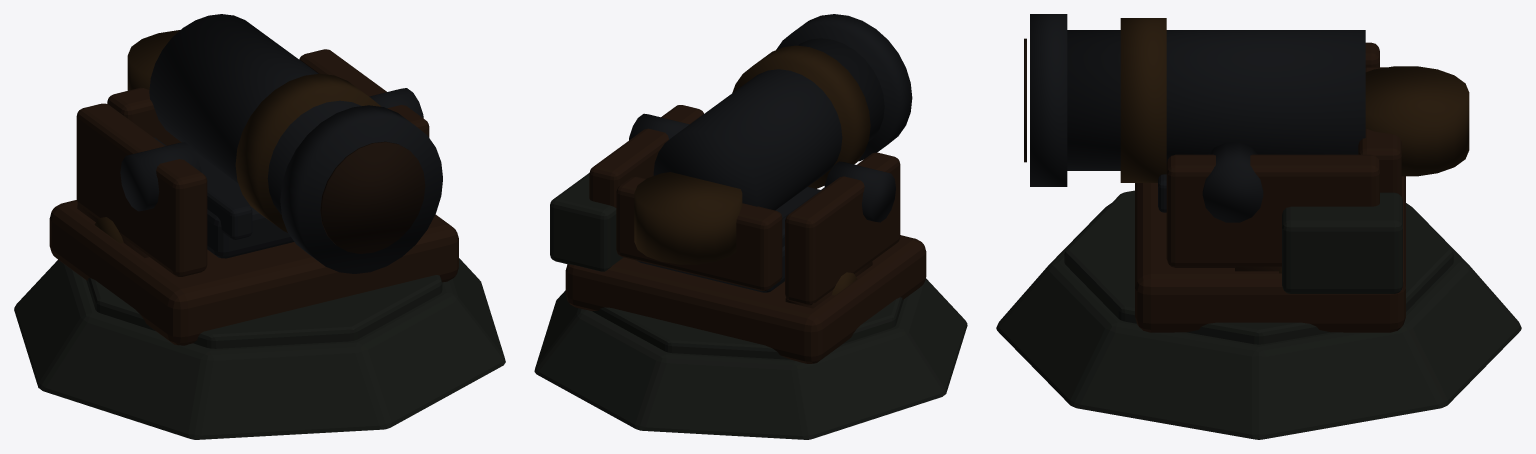
Rendered from TowerSiege2_pose.obj.
3 renders of one model, left to right at view 1: azimuth 30°, elevation 25°; view 2: azimuth 150°, elevation 25°; view 3: azimuth 270°, elevation 25°, orthographic. The views are drawn at different scales.
Parts seen in each view (by area): view 1: limestone_socket_lower_course, oak_carriage, forged_mortar_barrel, carriage_cheek, black_muzzle_rim, limestone_socket_upper_course, dark_bore, bronze_reinforce_collar, iron_cradle, iron_trunnion, carriage_cheek.001, iron_carriage_brace (+3 smaller); view 2: limestone_socket_lower_course, oak_carriage, forged_mortar_barrel, carriage_cheek, counterweight, recoil_stop, black_muzzle_rim, bronze_reinforce_collar, stone_ammo_chest, limestone_socket_upper_course, carriage_cheek.001, iron_trunnion (+2 smaller); view 3: limestone_socket_lower_course, forged_mortar_barrel, oak_carriage, carriage_cheek.001, limestone_socket_upper_course, stone_ammo_chest, counterweight, bronze_reinforce_collar, black_muzzle_rim, iron_trunnion.001, recoil_stop.
Boxes of the visible parts, <box> form: limestone_socket_lower_course: <box>14,258,505,439</box>; oak_carriage: <box>49,200,458,345</box>; forged_mortar_barrel: <box>149,14,361,214</box>; carriage_cheek: <box>76,103,207,276</box>; black_muzzle_rim: <box>280,105,442,273</box>; limestone_socket_upper_course: <box>86,275,442,348</box>; dark_bore: <box>320,141,425,253</box>; bronze_reinforce_collar: <box>235,73,380,232</box>; iron_cradle: <box>195,152,294,258</box>; iron_trunnion: <box>120,142,201,211</box>; carriage_cheek.001: <box>299,49,429,137</box>; iron_carriage_brace: <box>153,137,252,239</box>; limestone_socket_lower_course: <box>534,278,967,439</box>; oak_carriage: <box>565,235,926,363</box>; forged_mortar_barrel: <box>653,38,884,210</box>; carriage_cheek: <box>785,152,900,305</box>; counterweight: <box>634,172,742,264</box>; recoil_stop: <box>616,176,782,290</box>; black_muzzle_rim: <box>776,14,912,161</box>; bronze_reinforce_collar: <box>732,45,870,188</box>; stone_ammo_chest: <box>550,173,623,271</box>; limestone_socket_upper_course: <box>592,297,903,359</box>; carriage_cheek.001: <box>589,105,703,207</box>; iron_trunnion: <box>824,161,895,222</box>; limestone_socket_lower_course: <box>996,203,1521,439</box>; forged_mortar_barrel: <box>1067,30,1365,170</box>; oak_carriage: <box>1135,176,1405,332</box>; carriage_cheek.001: <box>1166,154,1379,267</box>; limestone_socket_upper_course: <box>1064,190,1453,344</box>; stone_ammo_chest: <box>1282,192,1402,293</box>; counterweight: <box>1365,66,1469,176</box>; bronze_reinforce_collar: <box>1120,18,1166,182</box>; black_muzzle_rim: <box>1030,14,1067,186</box>; iron_trunnion.001: <box>1202,142,1263,222</box>; recoil_stop: <box>1358,67,1401,196</box>.
Size of the model in its own units: 1.82 by 1.18 by 1.82.
